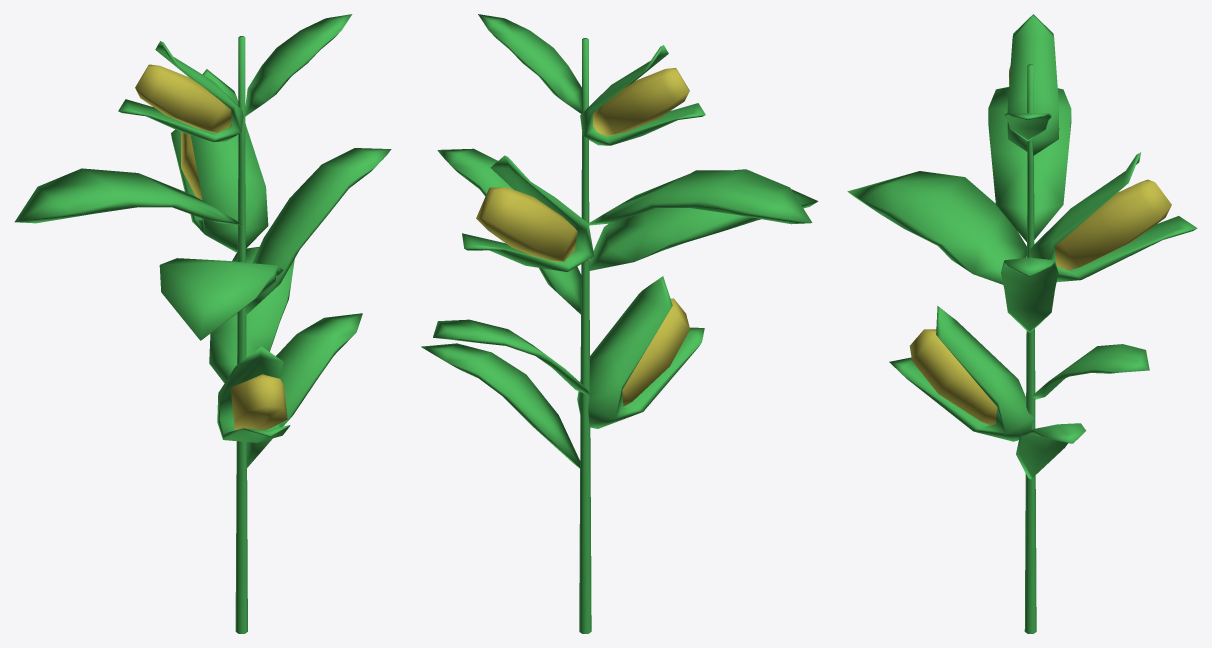
File: Milho_1.fbx
The picture shows the model from 3 angles, left to right: view 1: azimuth 30°, elevation 25°; view 2: azimuth 150°, elevation 25°; view 3: azimuth 270°, elevation 25°; orthographic projection. The views are drawn at different scales.
Parts seen in each view (by area): view 1: Milho_1; view 2: Milho_1; view 3: Milho_1.
Boxes of the visible parts, x1=… form: Milho_1: x1=14, y1=14, x2=391, y2=633; Milho_1: x1=421, y1=14, x2=818, y2=633; Milho_1: x1=847, y1=14, x2=1197, y2=633.
Bounding box in the file's own units: 0.98 × 1.16 × 1.79.
